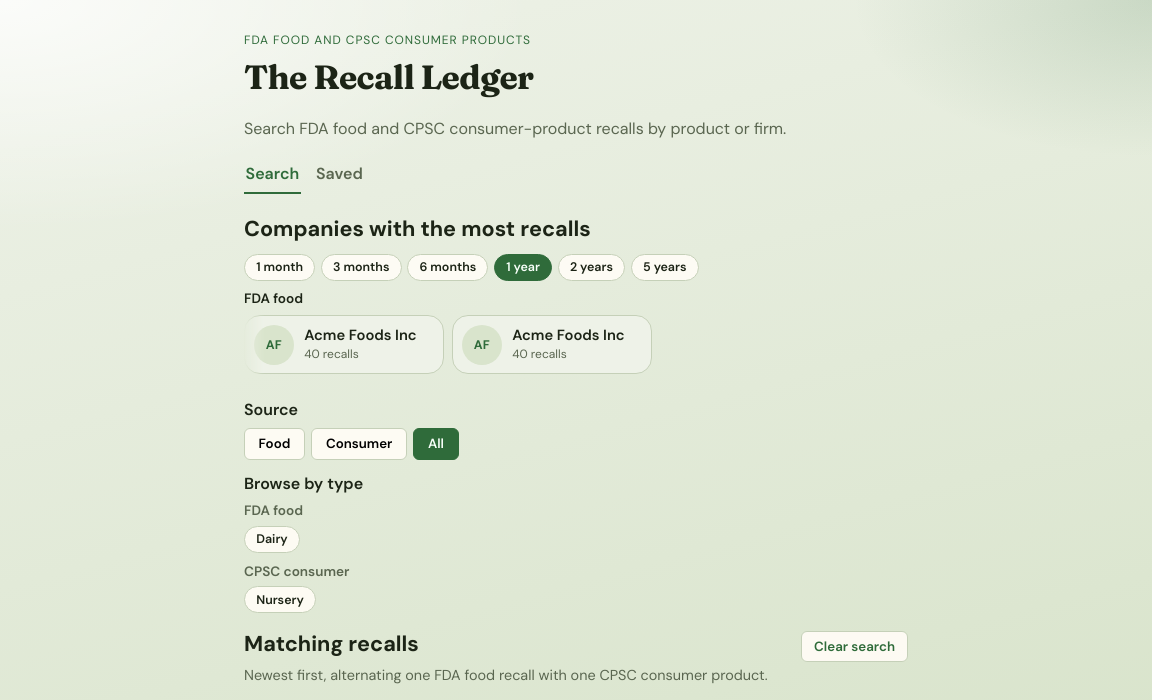
Scenario: App › a filter turns the list into Matching recalls, and Clear search restores the latest list
Earlier steps of the test are not shown.
Expected: the heading "Matching recalls" is shown, [244,629,419,660]
Click the button "Clear search" at [855, 646], box [801,631,908,662]
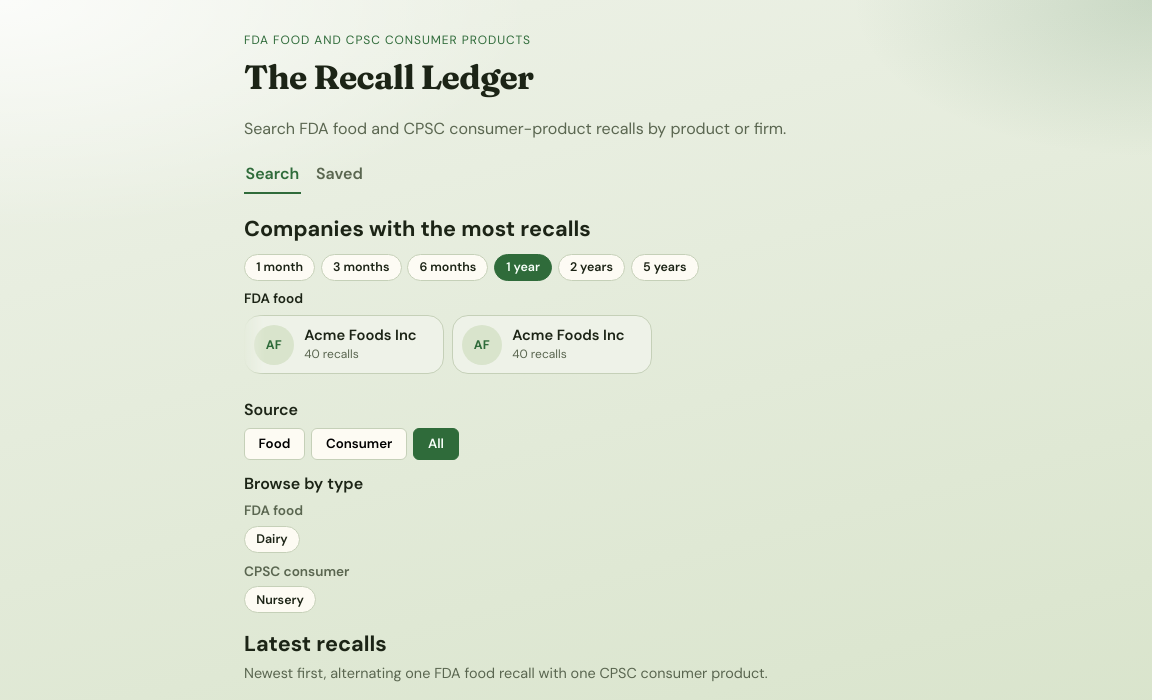
Expected: the heading "Companies with the most recalls" is shown, [244,215,591,243]
Result: the heading "Latest recalls" is shown at [244,629,387,660]
Result: the button "Clear search" is gone
